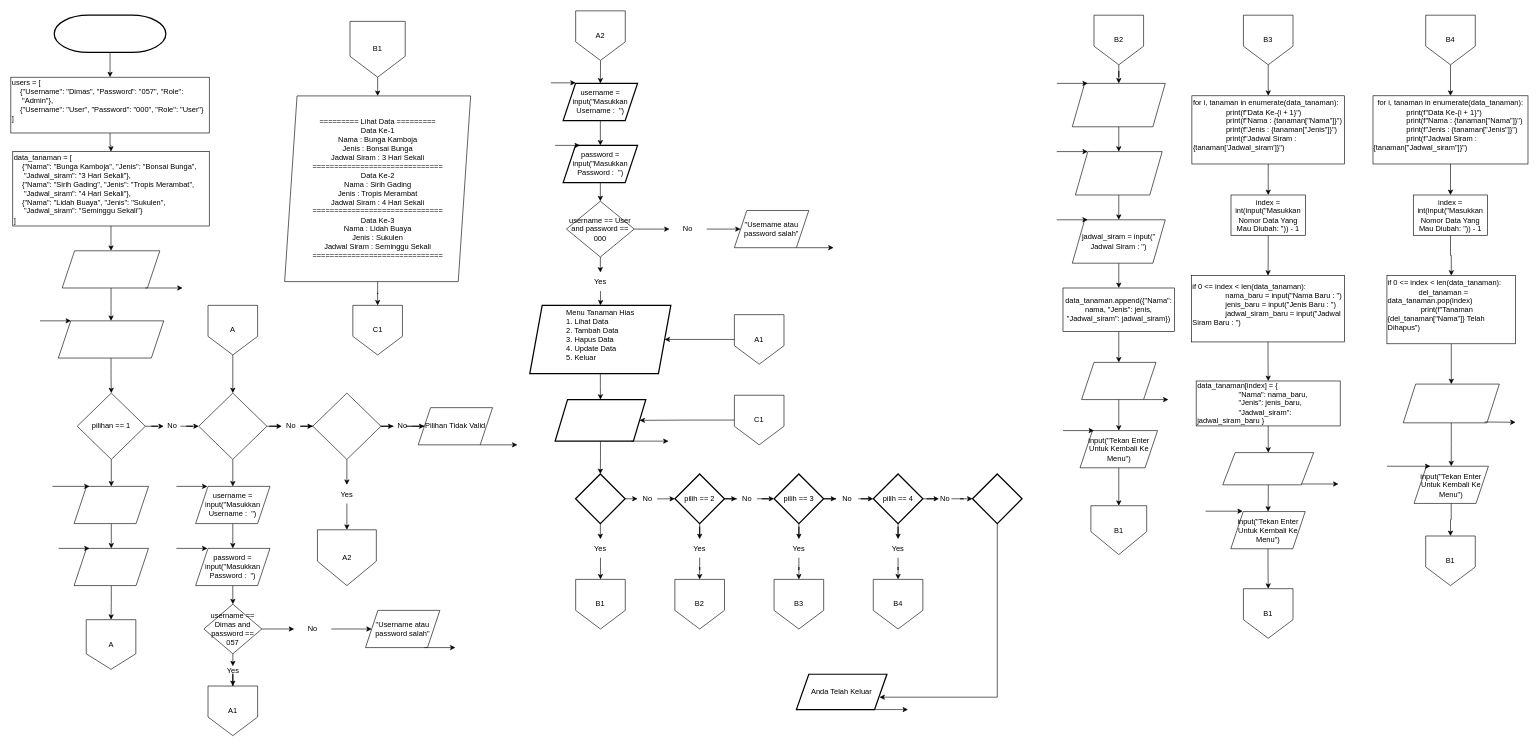
Some shapes in this 1539 by 746 pixel diagram are drawn without their labels. Here are the shapes that lost their labels. From the top down, the centre of each, then its label:
pixel 109 33: Start
pixel 1118 105: nama = input(" Nama Tanaman : " )
pixel 1118 173: jenis = input(" Jenis Tanaman : ")
pixel 111 269: 1. Registrasi 2. Login Sebagai Admin 3. Login Sebagai User
pixel 111 339: pilihan = input("Masukkan Angka Menu Pilihan: ")
pixel 1118 381: print(" Tanaman {nama} Telah Ditambahkan" )
pixel 600 420: pilih = input("Masukkan Pilihan Menu :")
pixel 1451 403: Data Berhasil Dihapus
pixel 232 425: pilihan == 2
pixel 346 425: pilihan == 3
pixel 1268 468: Data Berhasil Diubah
pixel 110 505: user_baru = input("Masukkan Username Baru: ")
pixel 600 498: pilih == 1
pixel 997 498: pilih == 5
pixel 110 567: password_baru = input("Masukkan Password Baru: ")
